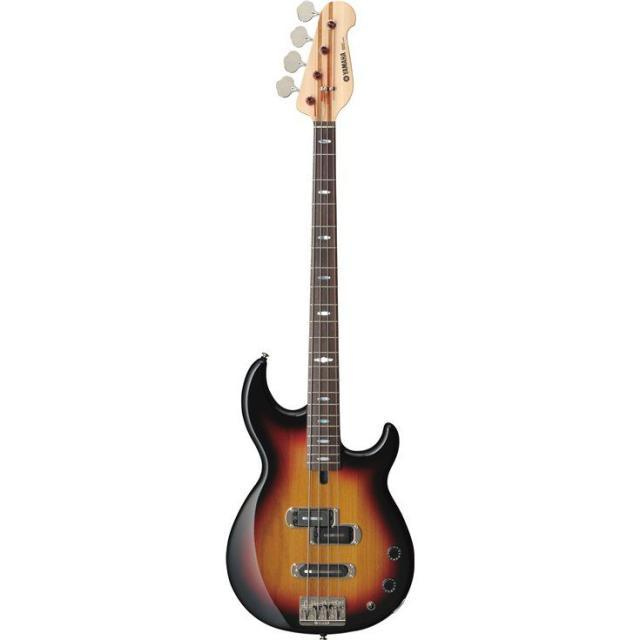bass: (227, 2, 413, 634)
